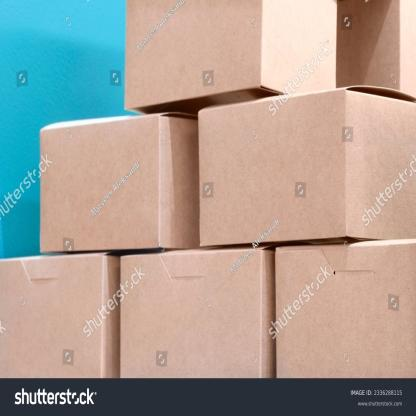box: (201, 91, 345, 246), (276, 243, 416, 378), (120, 250, 265, 374), (40, 115, 160, 253), (123, 0, 262, 111), (0, 258, 105, 380)
